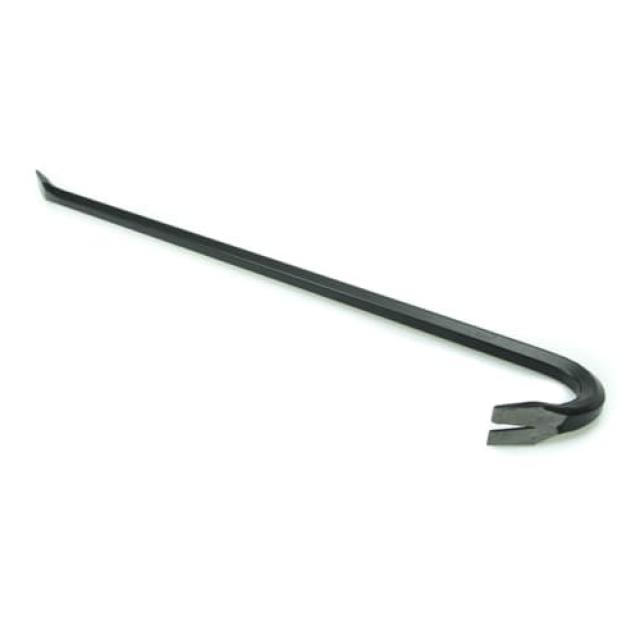Linggis: (34, 168, 616, 444)
